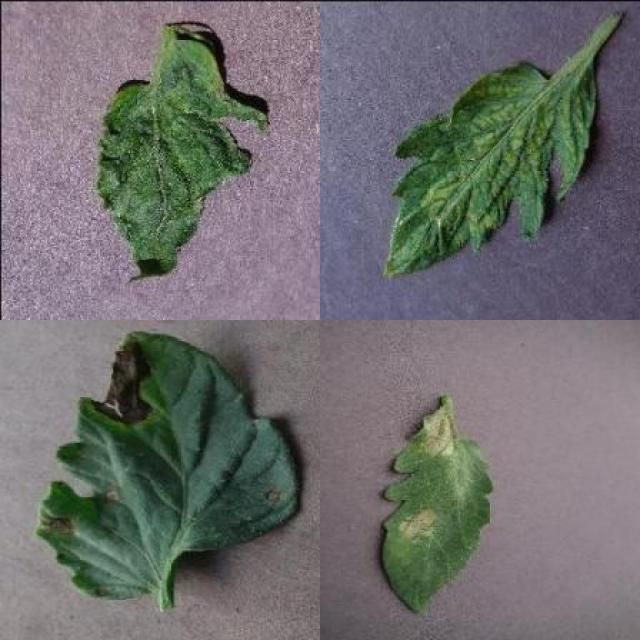Early Blight: (37, 328, 297, 603)
Late Blight: (384, 404, 496, 616)
Mosaic Virus: (378, 57, 596, 280), (95, 40, 271, 287)
